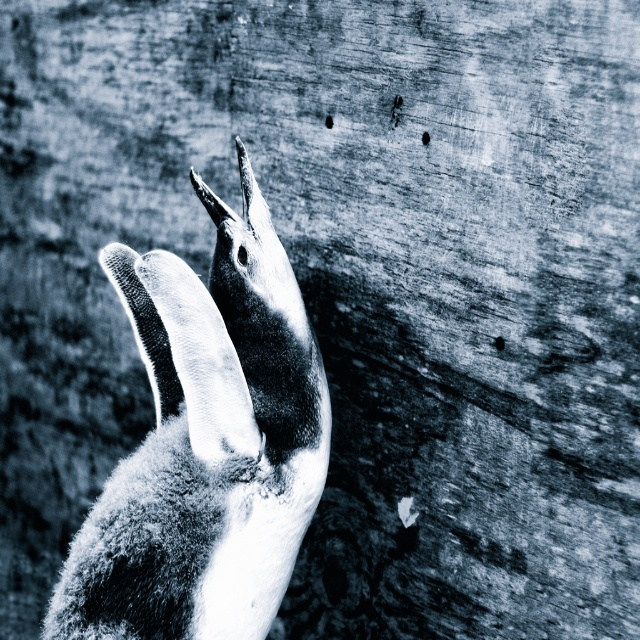Penguin: (35, 135, 332, 639)
